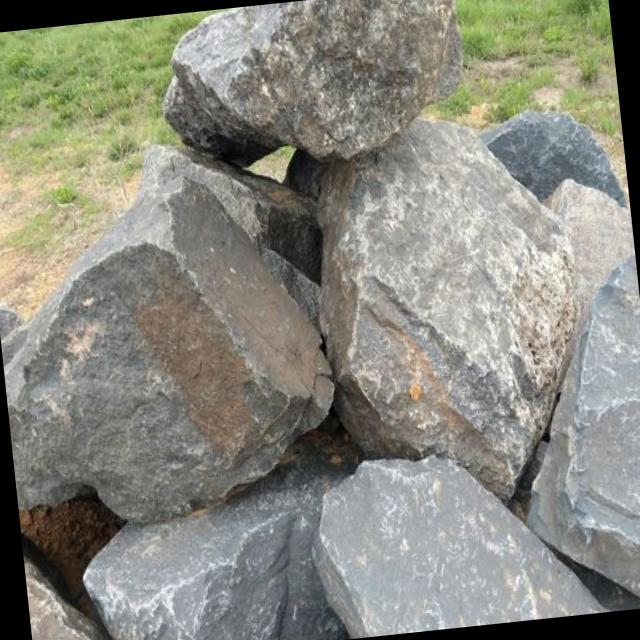grass: (0, 9, 220, 313), (427, 0, 629, 195)
rocks: (0, 0, 640, 640)
stone: (0, 148, 332, 521), (317, 120, 575, 496), (314, 457, 607, 638), (83, 451, 351, 640), (162, 0, 460, 166), (528, 254, 640, 598), (542, 178, 634, 331), (481, 111, 624, 205), (23, 555, 102, 640)
